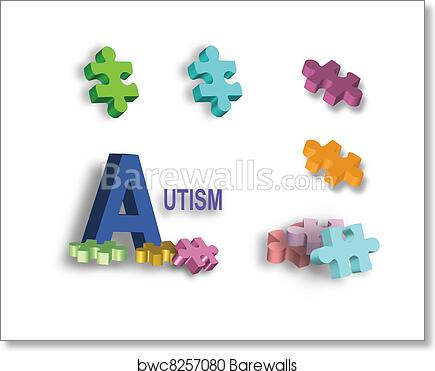puzzle piece: (167, 40, 258, 125), (295, 46, 374, 122), (78, 37, 152, 117), (296, 129, 380, 198), (310, 219, 384, 284), (173, 231, 234, 278), (63, 231, 129, 267)
